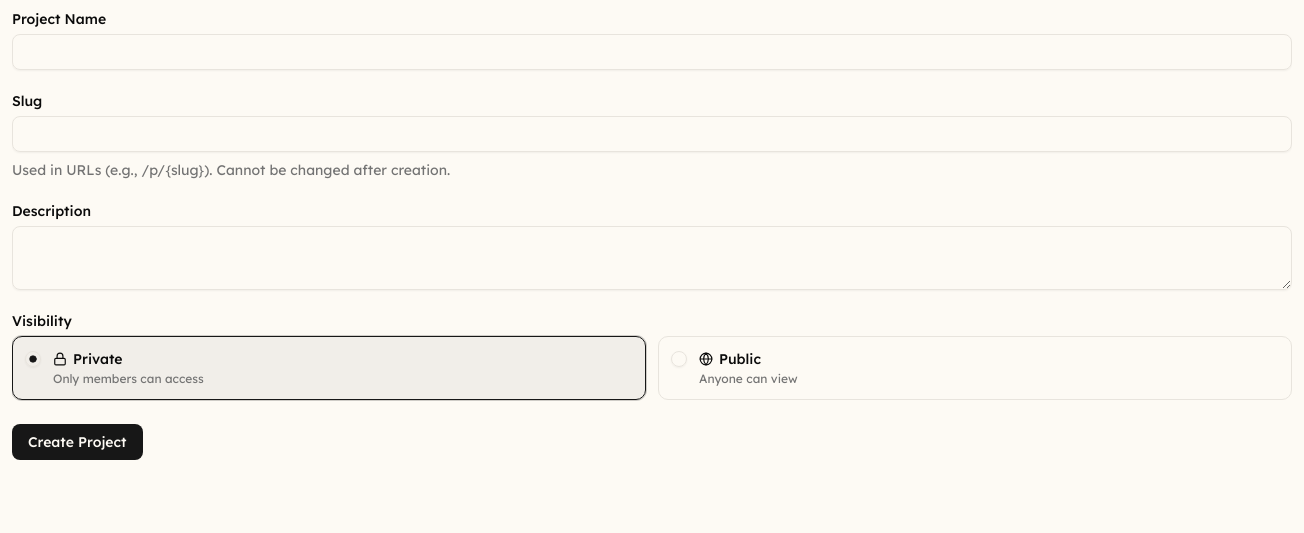
Scenario: CreateProjectForm › should show validation errors when submitting empty form
Click the button "Create Project".
click(77, 442)  # box [12,424,142,460]
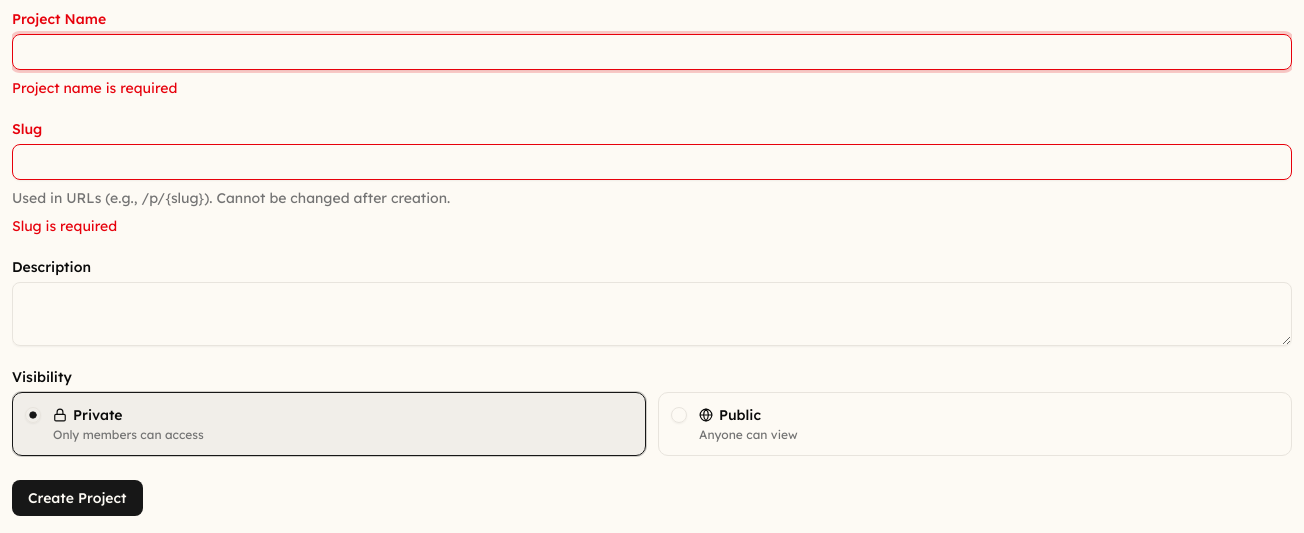
Expected: the text "Project name is required" is shown, [12,79,177,97]
